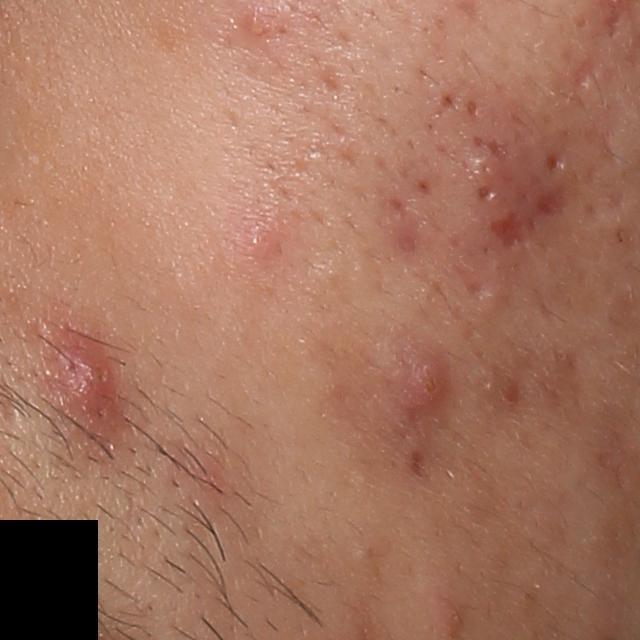atrophic_scar: (488, 207, 531, 248), (532, 185, 571, 219), (316, 64, 346, 102), (570, 50, 594, 89), (485, 137, 516, 163), (545, 150, 565, 173)
comedo: (477, 178, 499, 201), (466, 94, 483, 120)
papule: (47, 326, 122, 441), (395, 338, 460, 424), (237, 211, 293, 269)
